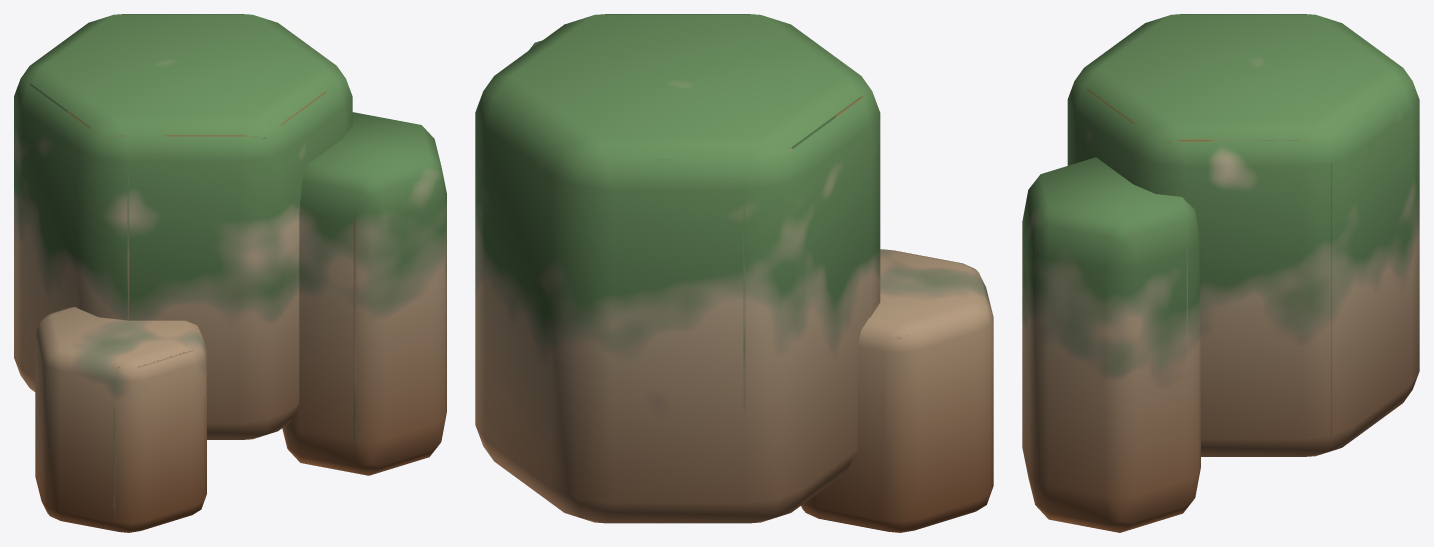
File: ROCK.fbx
The picture shows the model from 3 angles, left to right: view 1: azimuth 30°, elevation 25°; view 2: azimuth 150°, elevation 25°; view 3: azimuth 270°, elevation 25°; orthographic projection. The views are drawn at different scales.
Parts seen in each view (by area): view 1: 실린더; view 2: 실린더; view 3: 실린더.
Boxes of the visible parts, x1=… form: 실린더: x1=14, y1=14, x2=446, y2=532; 실린더: x1=475, y1=14, x2=993, y2=532; 실린더: x1=1022, y1=14, x2=1419, y2=532.
Bounding box in the file's own units: 71.33 × 63.31 × 60.21.
1 material, 1 textured.
